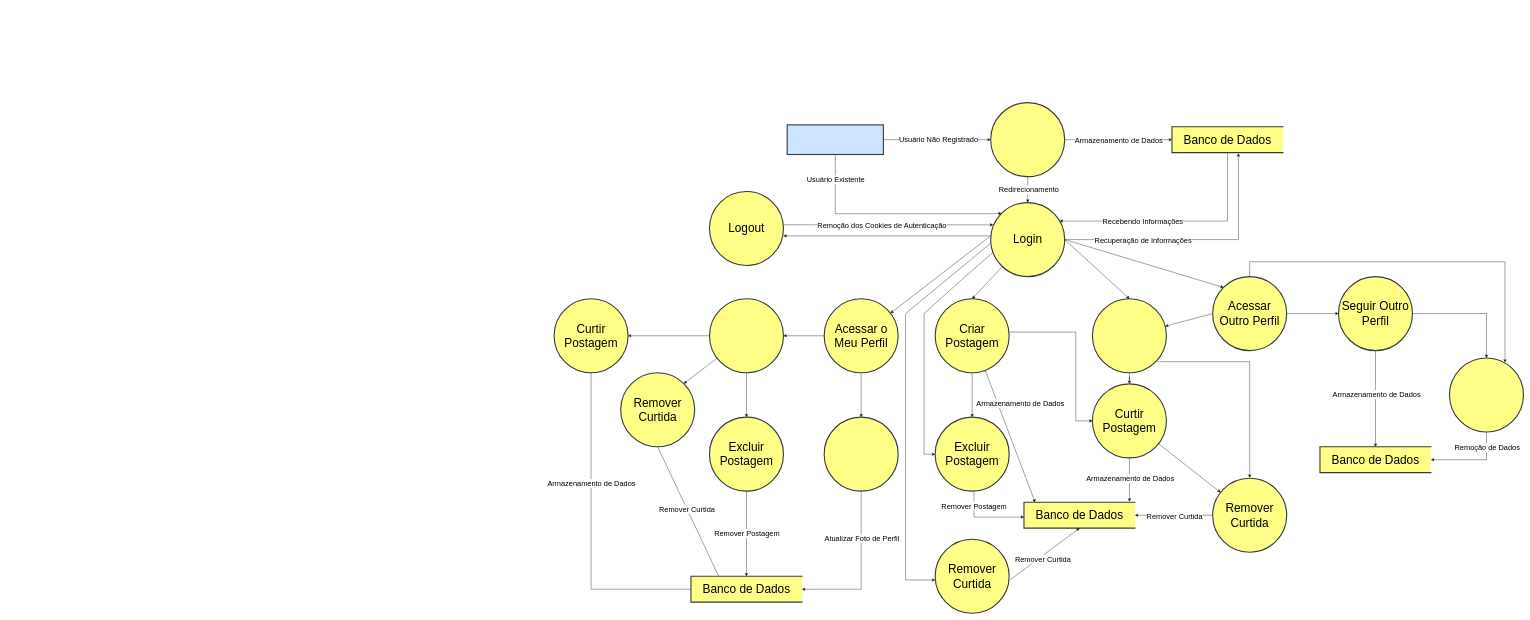
The diagram is 1530 pixels wide and 620 high, and some of its shapes have lost their labels. The shapes that lost their labels are listed below. From the top down, each one's centre as x and y in pixels, then its label:
(835,139): Usuário
(1027,139): Registro
(746,335): Acessar as Próprias Postagens
(1129,335): Visualizar Outras Postagens
(1486,394): Deixar de Seguir
(861,454): Alterar Foto de Perfil
